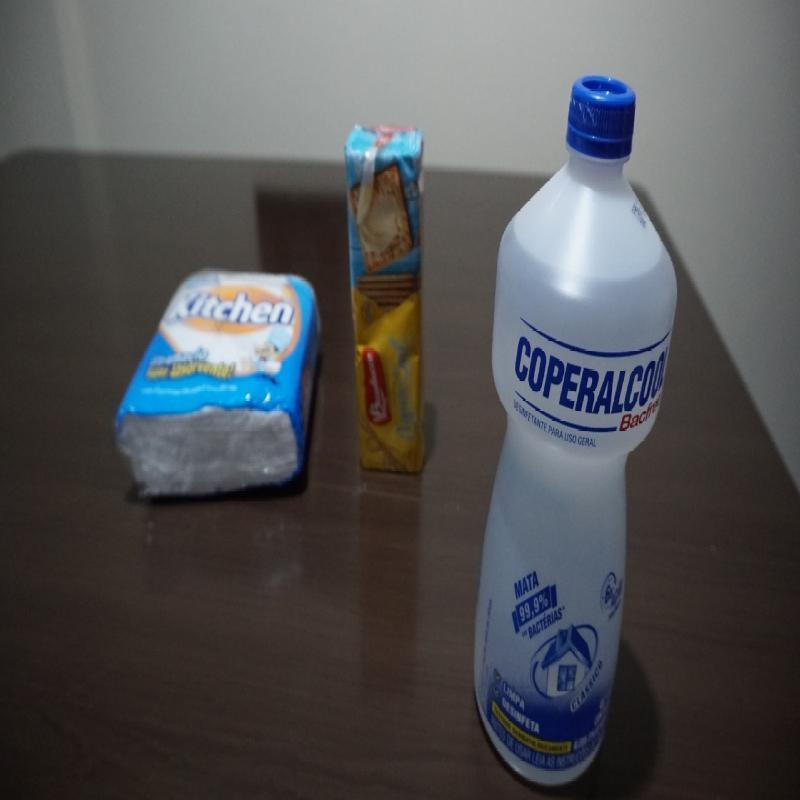Alcohol Bottle: (469, 71, 681, 791)
Cracker: (343, 123, 426, 478)
Napkin: (116, 266, 325, 506)
